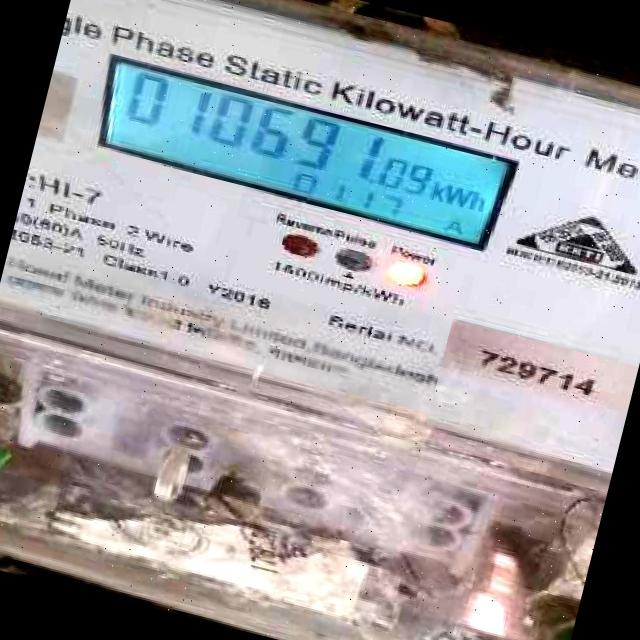LCD: (76, 42, 517, 256)
